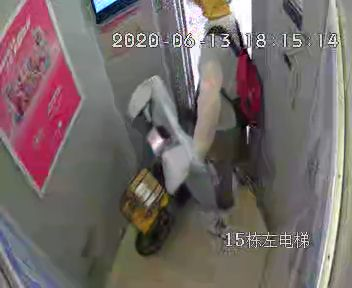Electric-bicycle: (121, 78, 196, 255)
